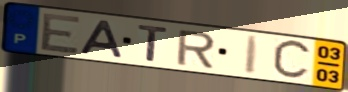A: (78, 19, 127, 61)
C: (270, 38, 314, 82)
E: (38, 12, 84, 56)
I: (243, 34, 262, 77)
R: (175, 29, 218, 70)
T: (136, 23, 171, 63)
